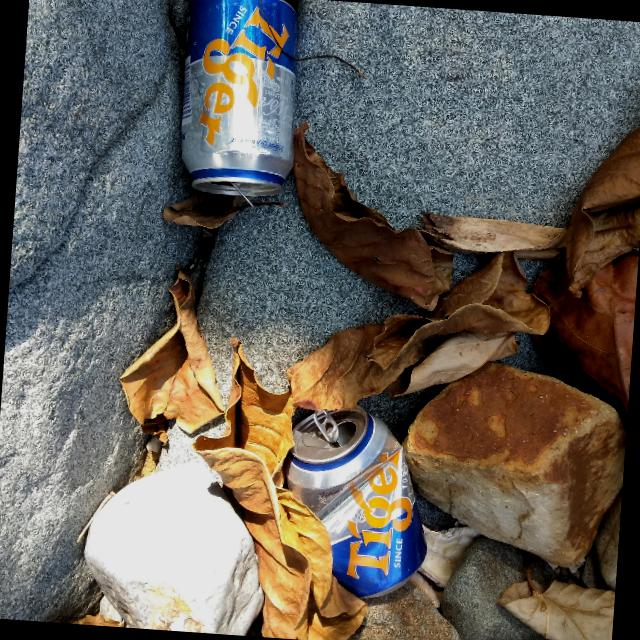trash: (276, 399, 438, 603), (172, 0, 305, 202)
